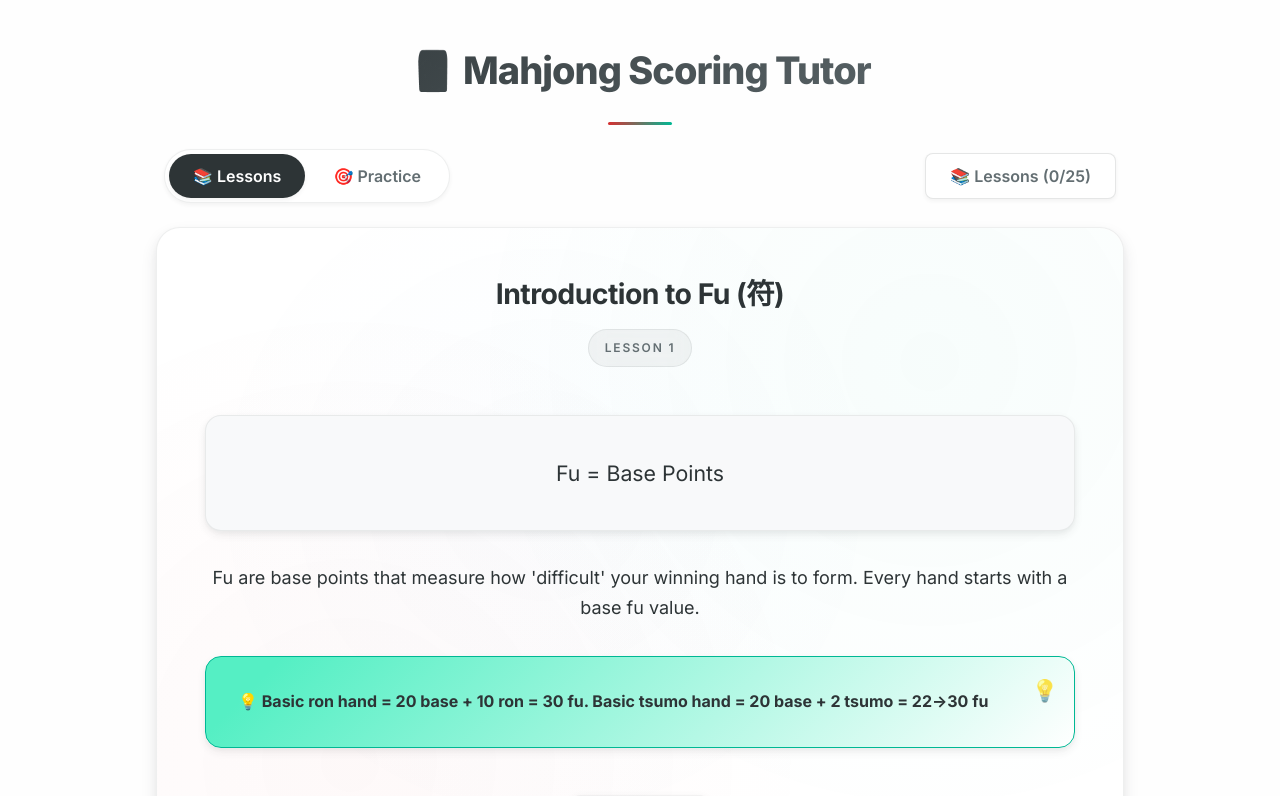
Test: App Integration › should not show lesson selector in practice mode
Click the button "🎯 Practice". click: (377, 176)
box: [309, 154, 445, 198]
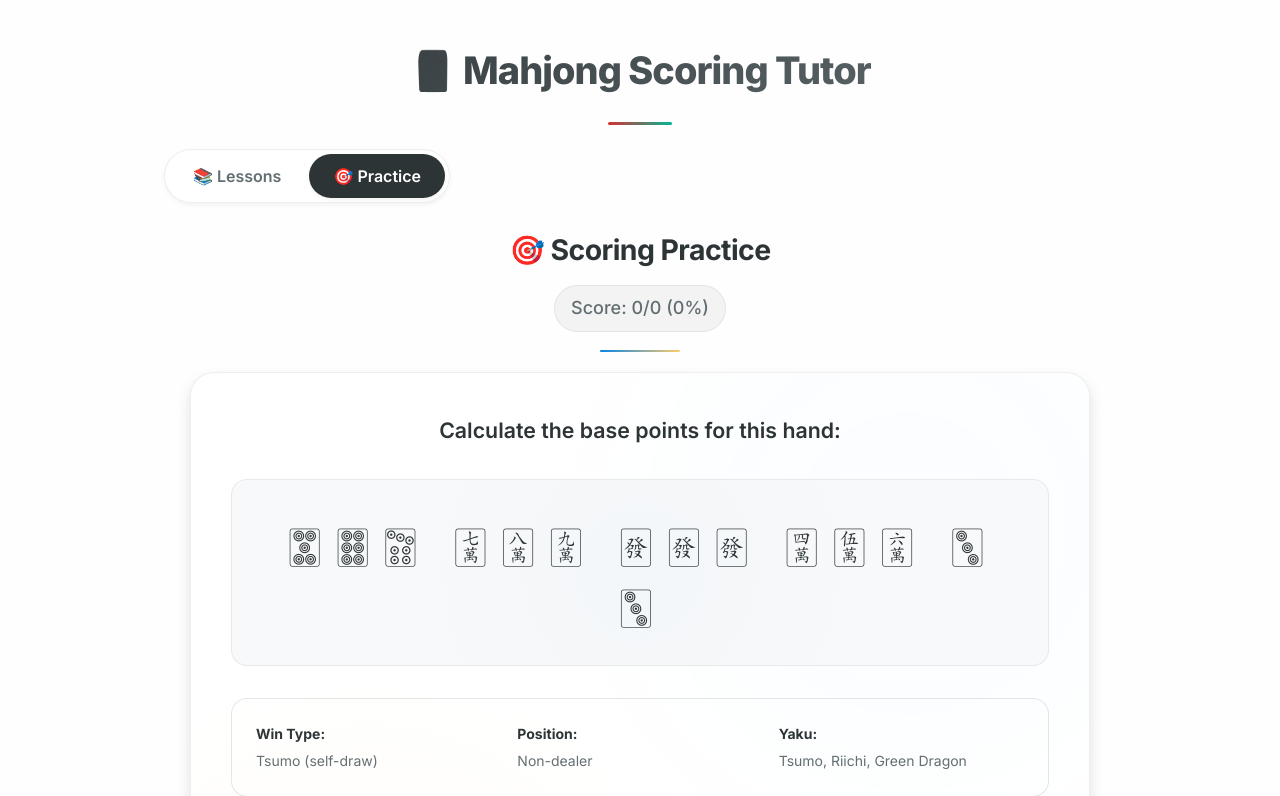
Check: the button "📚 Lessons (" is gone
